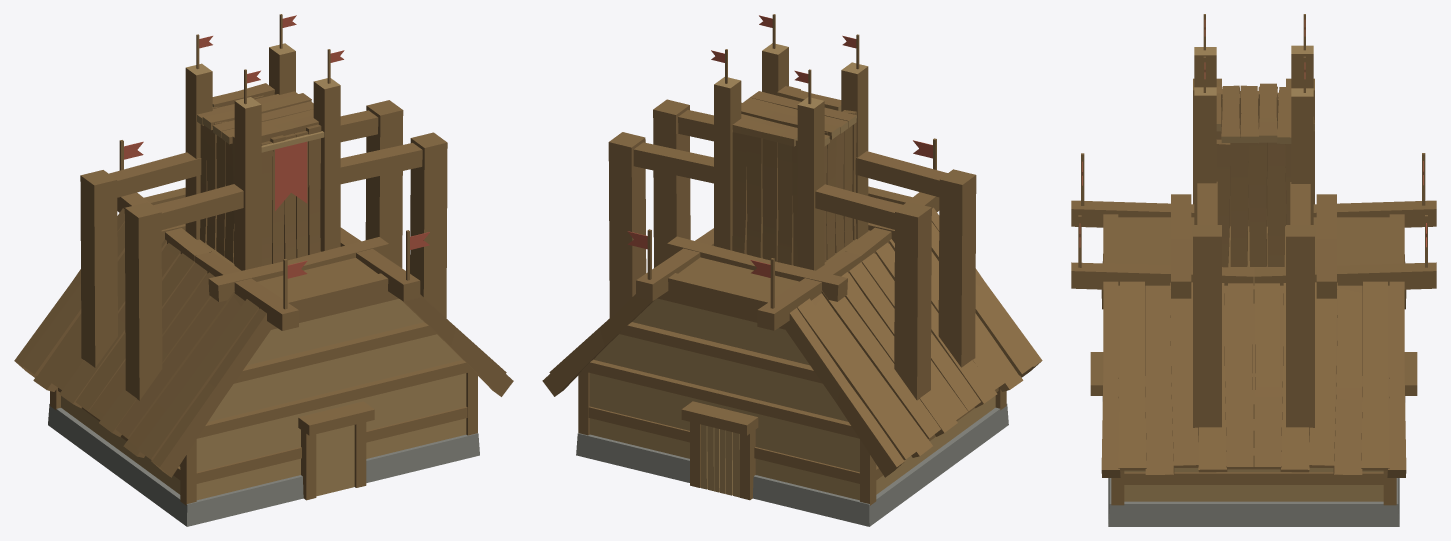
Rendered from towerhouse.glb.
3 views of the same model, side by side, from view 1: azimuth 30°, elevation 25°; view 2: azimuth 150°, elevation 25°; view 3: azimuth 270°, elevation 25° (orthographic). The views are drawn at different scales.
Bounding box in the file's own units: 1.39 × 1.47 × 1.17.
